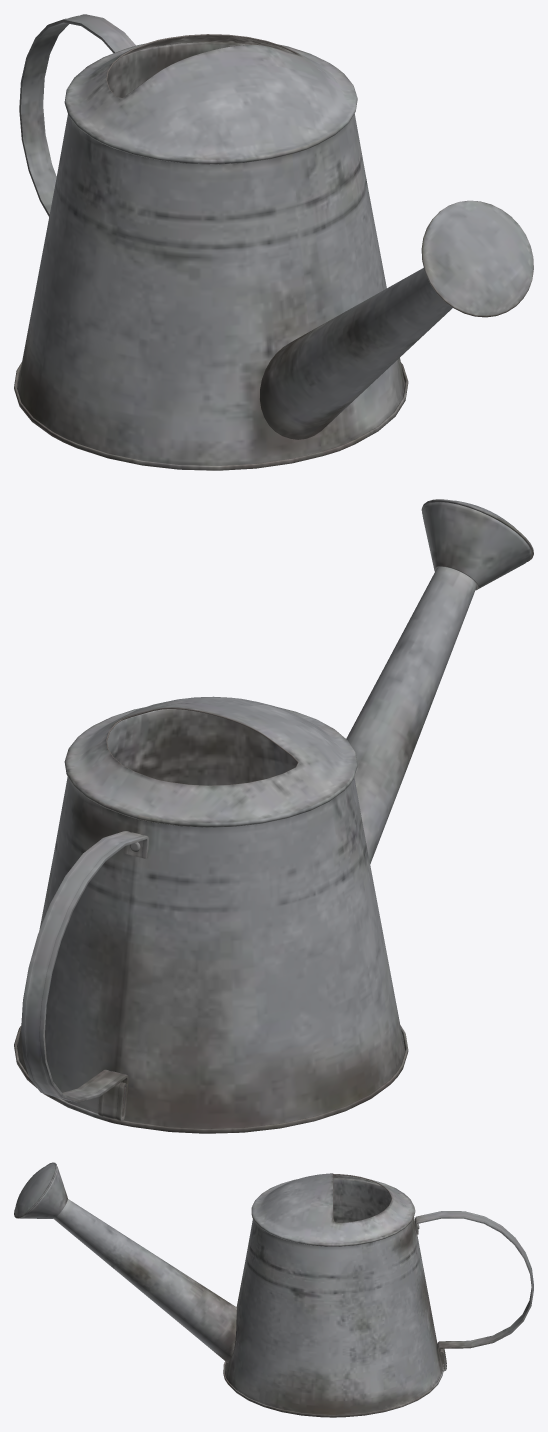
Rendered from watering_can_metal_01.glb.
3 renders of one model, top to bottom at view 1: azimuth 30°, elevation 25°; view 2: azimuth 150°, elevation 25°; view 3: azimuth 270°, elevation 25°, orthographic. The views are drawn at different scales.
Parts seen in each view (by area): view 1: watering_can_metal_01; view 2: watering_can_metal_01; view 3: watering_can_metal_01.
Part boxes in pixels (bbox=[...]): watering_can_metal_01: bbox=[14, 14, 533, 470]; watering_can_metal_01: bbox=[14, 499, 533, 1133]; watering_can_metal_01: bbox=[14, 1162, 533, 1417].
Bounding box in the file's own units: 0.191 × 0.1968 × 0.4523.
Materials: 1 (1 with a texture image).
